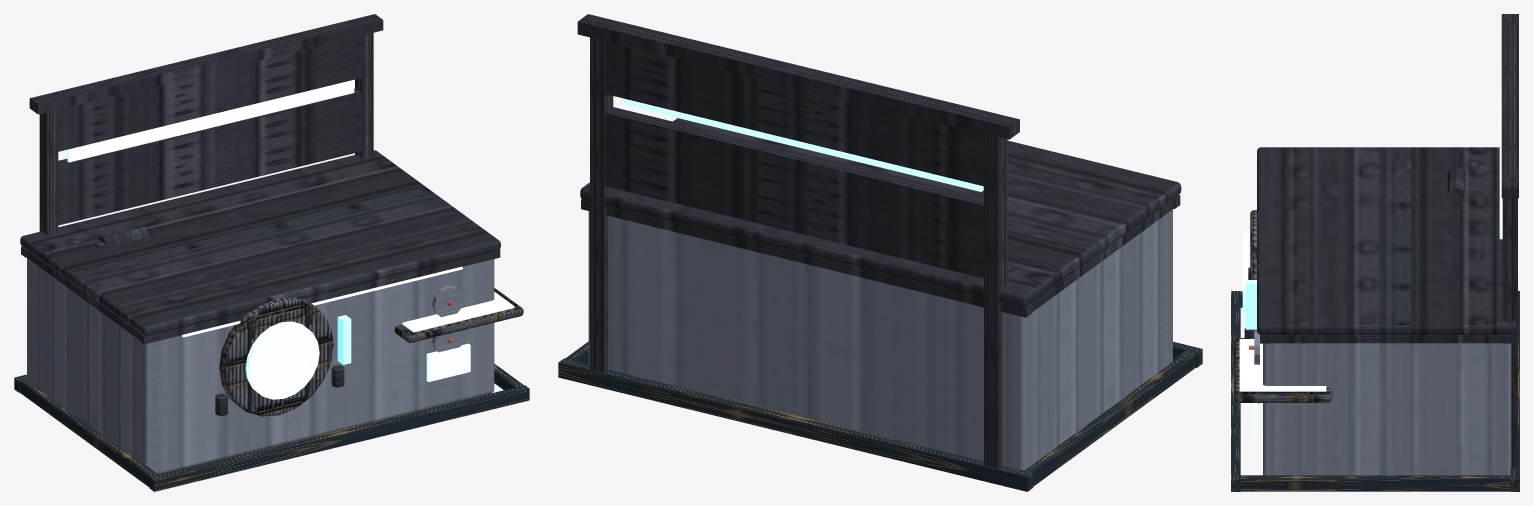
File: med_sterilizer.glb
The picture shows the model from 3 angles, left to right: view 1: azimuth 30°, elevation 25°; view 2: azimuth 150°, elevation 25°; view 3: azimuth 270°, elevation 25°; orthographic projection. The views are drawn at different scales.
Visible parts, largest first — view 1: top, body, sight_shell, shelltoe0, door, window, sightglow, shelltoes0, shellrim0, outtray, outglow, panel (+5 smaller); view 2: body, sight_shell, top, shelltoe2, shellrim2, shelltoes0, sightglow, shellrims0; view 3: top, body, sight_shell, shelltoes2, shellrims2, shelltoe0, outtray, outglow, handle, shelltoe2, sightglow, ventel (+2 smaller).
Part boxes in pixels (box(x1,y1,x2,y2)): top: box(20, 150, 500, 335); body: box(27, 258, 494, 474); sight_shell: box(29, 14, 383, 235); shelltoe0: box(149, 385, 529, 491); door: box(219, 297, 333, 416); window: box(245, 321, 319, 399); sightglow: box(67, 80, 354, 162); shelltoes0: box(19, 379, 158, 487); shellrim0: box(139, 249, 500, 344); outtray: box(394, 288, 523, 342); outglow: box(402, 291, 514, 332); panel: box(426, 343, 470, 381); body: box(588, 209, 1172, 470); sight_shell: box(577, 14, 1019, 468); top: box(580, 118, 1181, 307); shelltoe2: box(558, 358, 1033, 491); shellrim2: box(581, 199, 1031, 317); shelltoes0: box(1021, 350, 1195, 486); sightglow: box(624, 98, 983, 191); shellrims0: box(1029, 199, 1173, 312); top: box(1257, 147, 1516, 334); body: box(1263, 343, 1511, 475); sight_shell: box(1501, 14, 1518, 467); shelltoes2: box(1240, 475, 1512, 491); shellrims2: box(1269, 335, 1504, 343); shelltoe0: box(1231, 291, 1240, 491); outtray: box(1234, 338, 1332, 402); outglow: box(1239, 339, 1326, 391); handle: box(1245, 280, 1256, 329); shelltoe2: box(1510, 291, 1519, 491); sightglow: box(1499, 84, 1502, 239); ventel: box(1447, 166, 1465, 194).
Bounding box in the file's own units: 2.32 × 1.7 × 1.5.
Materials: 9 (6 with a texture image).
